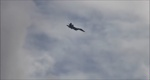maybay_muctieu: (66, 24, 85, 35)
